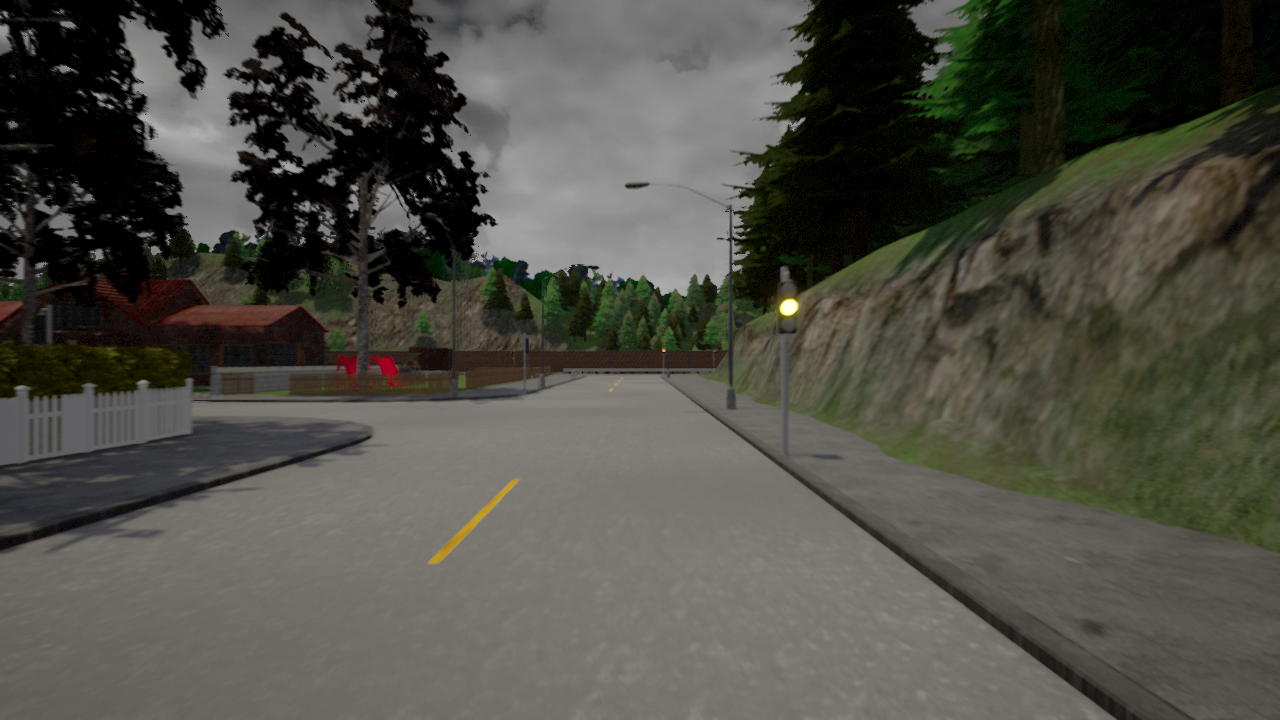yellow: (776, 281, 800, 334)
